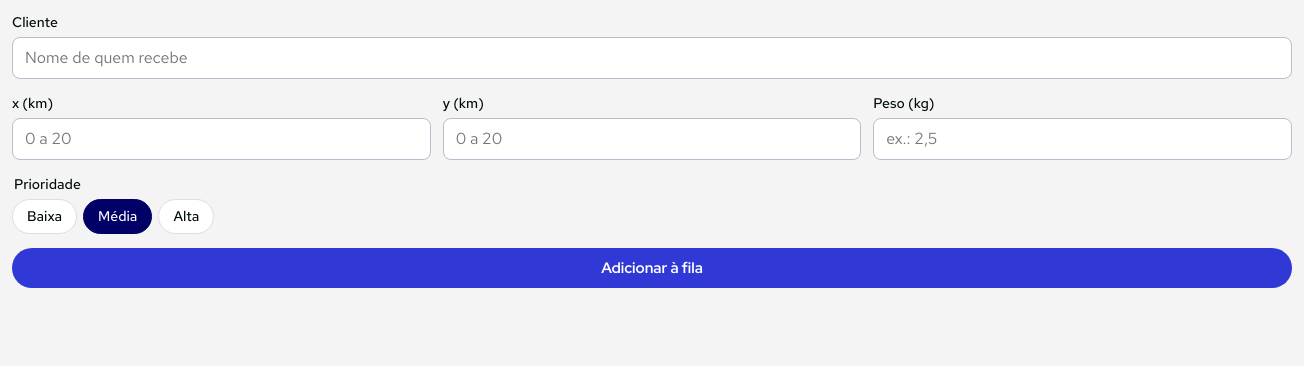
Test: <PedidoForm /> › envia números (com vírgula convertida) e a prioridade escolhida
The width and height of the screenshot is (1304, 366).
Type "Ana" into the field labelled "Cliente" at (652, 58), box [12,37,1292,79]
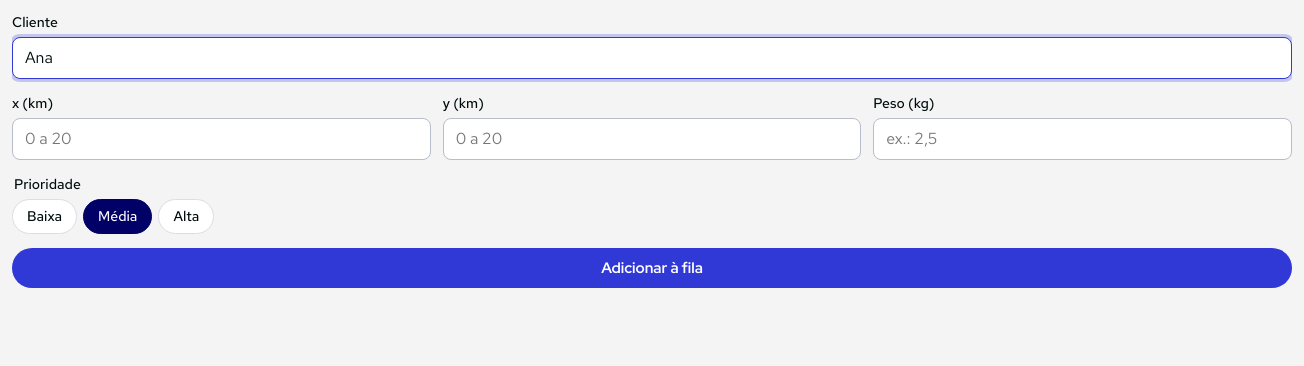
Type "12,5" into the field labelled "x (km)" at (221, 139), box [12,118,431,160]
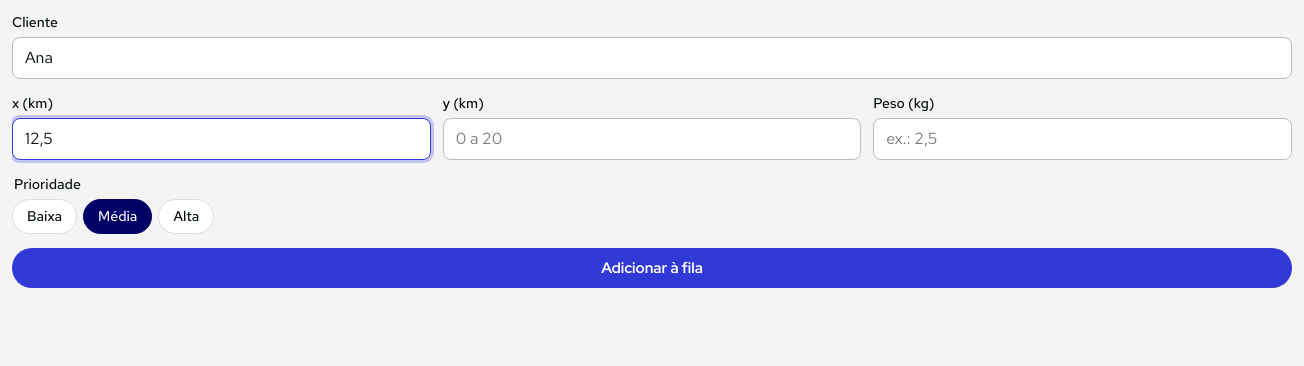
Type "7" into the field labelled "y (km)" at (652, 139), box [443,118,861,160]
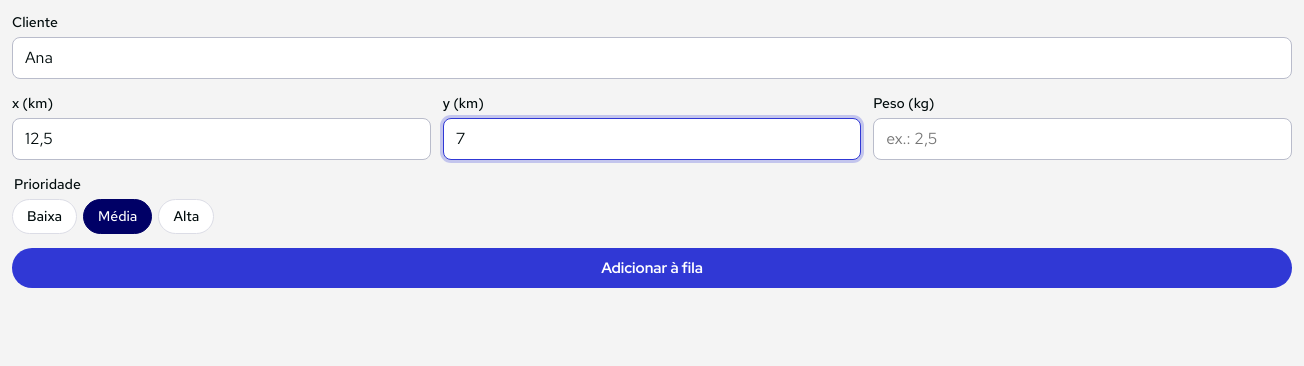
Type "2,5" into the field labelled "Peso (kg)" at (1083, 139), box [873,118,1292,160]
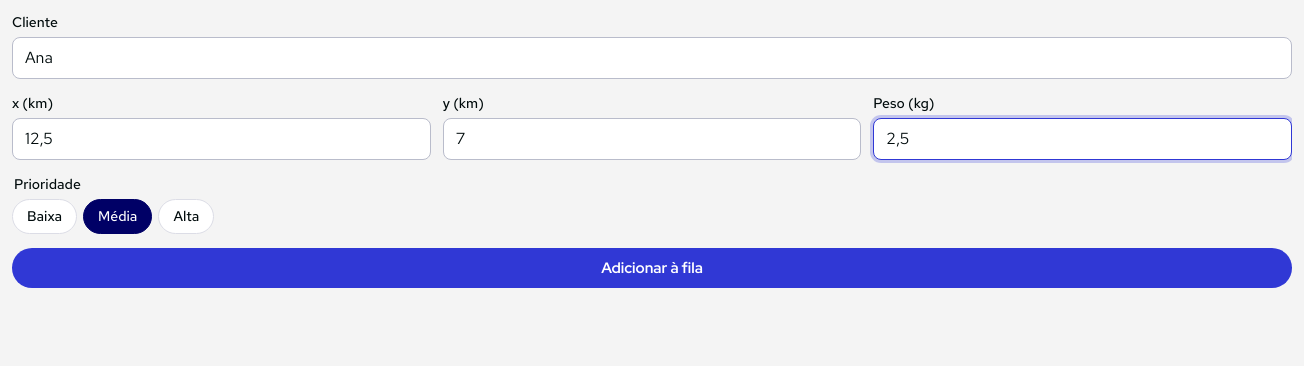
Click the radio button labelled "Alta" at (186, 216), box [158,199,214,234]
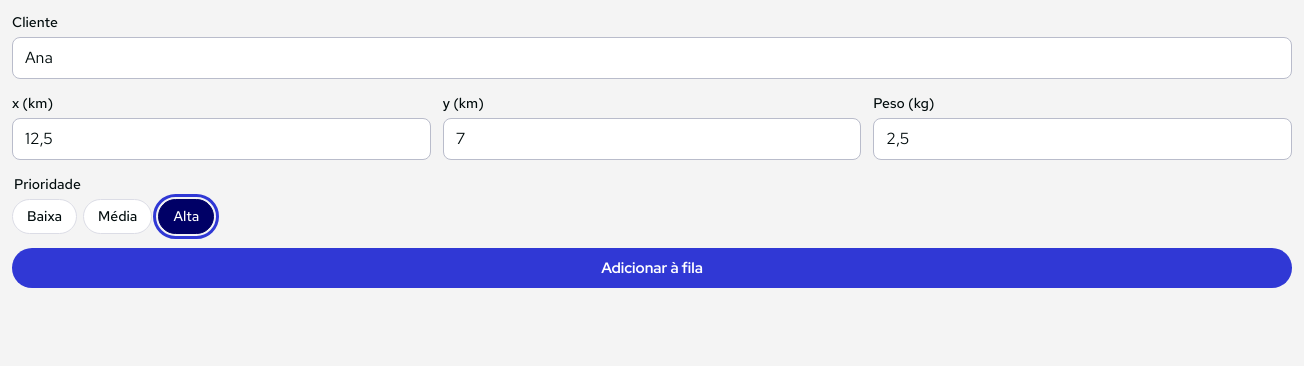
Click the button "Adicionar à fila" at (652, 268), box [12,248,1292,288]
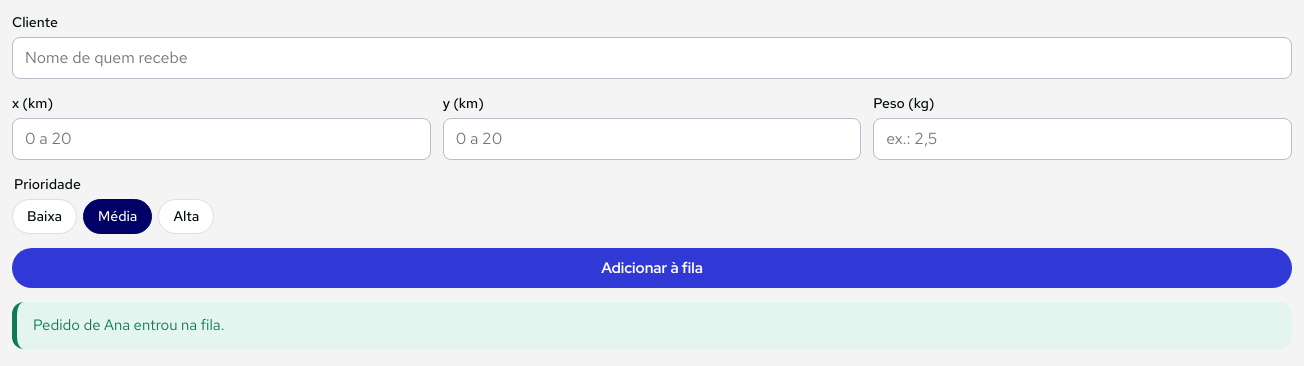
Now the text "Pedido de Ana entrou na fila." is shown, box [12,302,1292,348]
